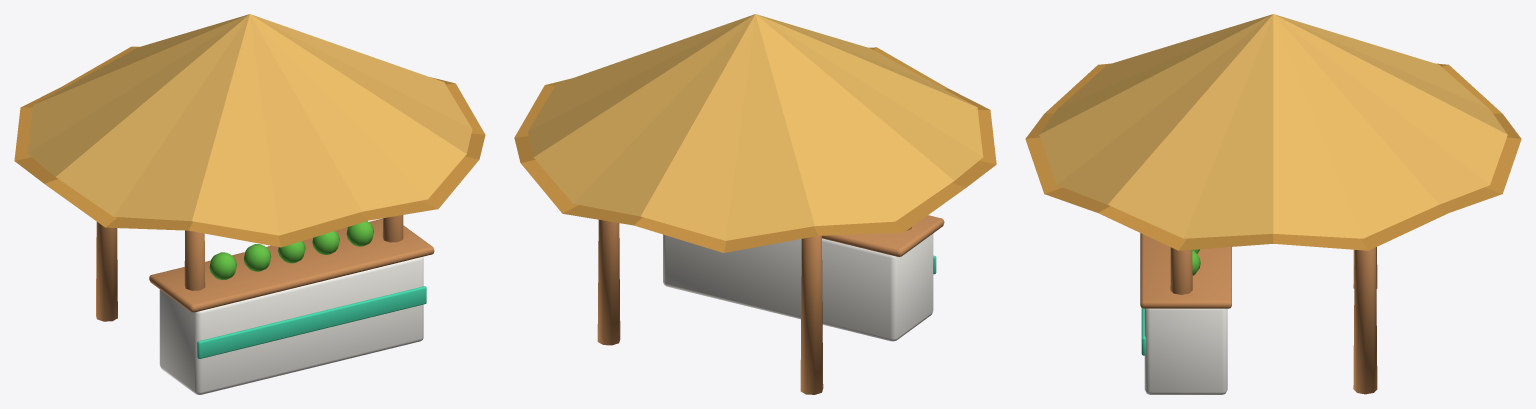
The model's file is kiosk.glb.
3 views of the same model, side by side, from view 1: azimuth 30°, elevation 25°; view 2: azimuth 150°, elevation 25°; view 3: azimuth 270°, elevation 25° (orthographic). The views are drawn at different scales.
Parts seen in each view (by area): view 1: Kiosk; view 2: Kiosk; view 3: Kiosk.
Boxes of the visible parts, x1=… form: Kiosk: x1=14, y1=14, x2=485, y2=394; Kiosk: x1=514, y1=14, x2=996, y2=394; Kiosk: x1=1025, y1=14, x2=1521, y2=394.
Size of the model in its own units: 5.4 by 3.9 by 5.4.
